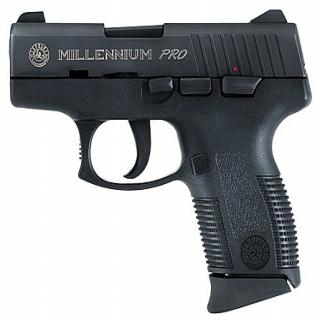gun: (3, 0, 312, 317)
